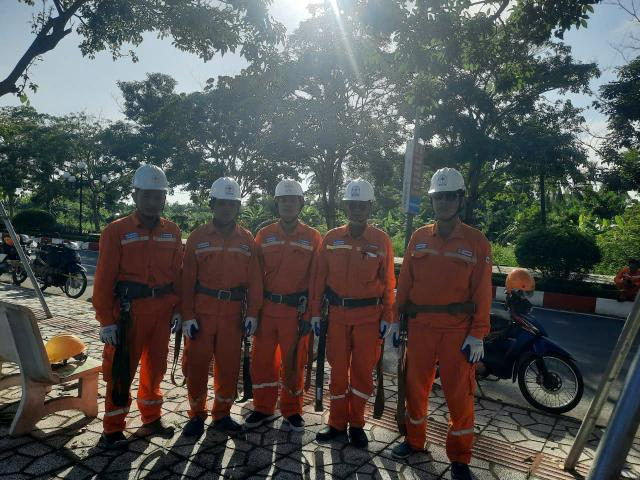gloves: (458, 331, 489, 363), (99, 316, 121, 346), (373, 318, 398, 340), (181, 317, 202, 341), (164, 312, 184, 332), (308, 317, 327, 338), (245, 318, 261, 337)
harness: (399, 290, 482, 323), (319, 285, 391, 315), (102, 273, 176, 300), (189, 278, 255, 307), (258, 285, 310, 310)
helmet: (124, 158, 175, 193), (207, 171, 243, 204), (430, 166, 466, 195), (341, 177, 376, 206), (270, 177, 307, 201)
shoes: (133, 418, 182, 439), (90, 431, 141, 449), (238, 404, 277, 427), (274, 406, 308, 432), (388, 435, 422, 460), (208, 413, 244, 434), (315, 421, 346, 442), (346, 424, 370, 451), (446, 457, 473, 480), (188, 404, 207, 436)
